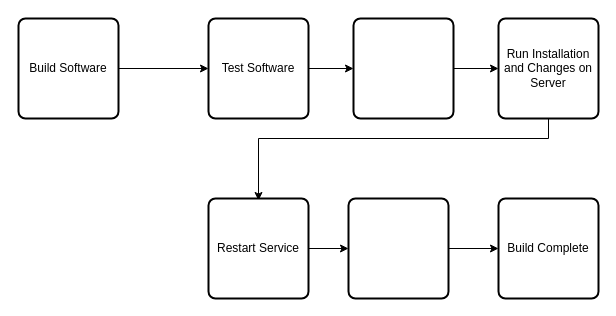
The diagram is 616 pixels wide and 316 high, and some of its shapes have lost their labels. Here are the shapes that lost their labels. From the top down, the box of each, then its label:
(352, 17, 454, 119): Push New Build of Software to Server
(347, 197, 449, 299): Notify Monitoring Service
